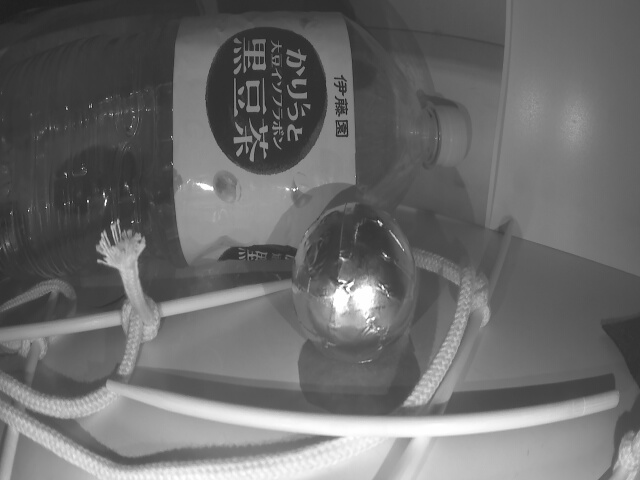Live: (291, 202, 421, 365)
